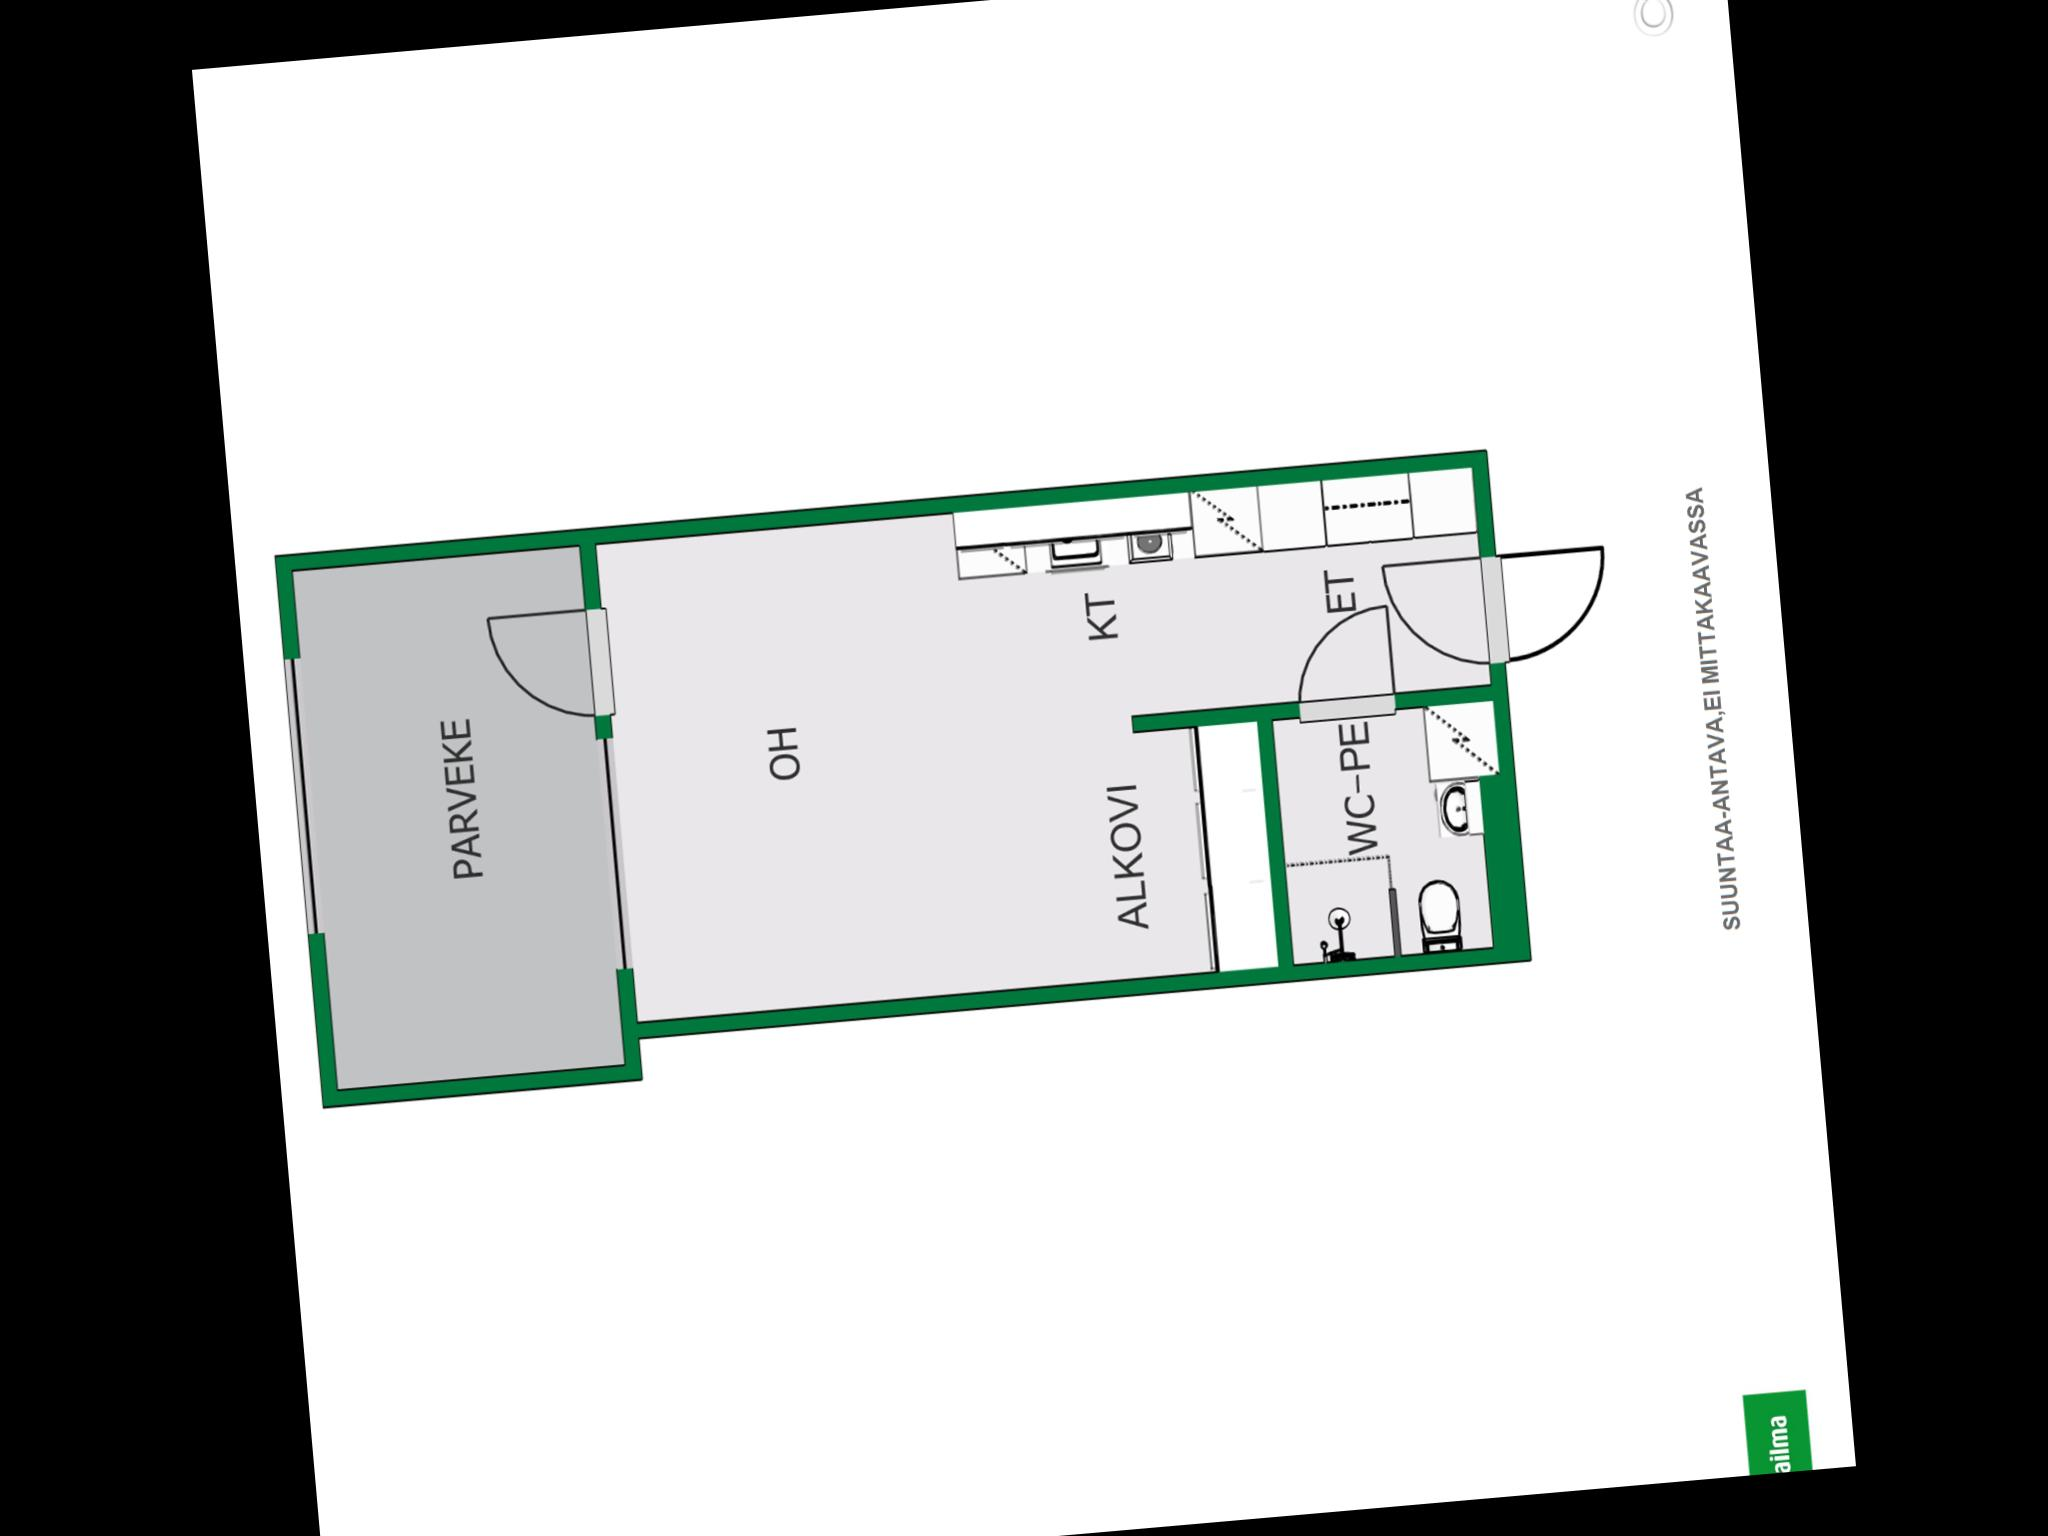door: (1480, 534, 1622, 668), (479, 600, 619, 731), (1374, 549, 1509, 678), (1282, 600, 1403, 728)
window: (277, 644, 331, 954), (589, 720, 645, 989)
